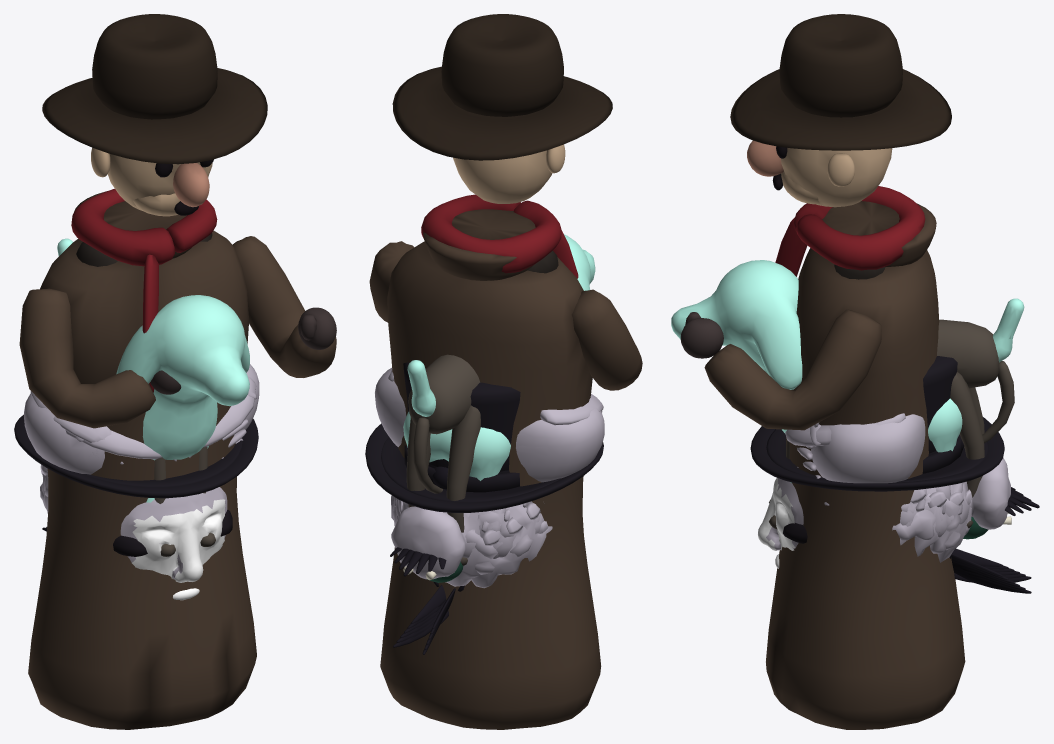
File: figures.glb
3 renders of one model, left to right at view 1: azimuth 30°, elevation 25°; view 2: azimuth 150°, elevation 25°; view 3: azimuth 270°, elevation 25°, orthographic. The views are drawn at different scales.
Visible parts, largest first — view 1: Fig_caretaker-torso, Fig_ghost-dog, Fig_bust-face, Fig_bust-hat-top, Fig_bust-body-gown, Fig_bust-body-coat, Fig_bust-head, Fig_bust-body-coat-bow, Fig_caretaker-legs, Fig_bust-hat-bowler, Fig_bust-body-toga, Fig_dog-body; view 2: Fig_caretaker-torso, Fig_dog-body, Fig_bust-hat-top, Fig_bust-hair-bun, Fig_ghost-dog, Fig_bust-body-coat, Fig_bust-body-coat-bow, Fig_bust-hair-wavy, Fig_bust-hat-bowler, Fig_bust-hair-curls, Fig_raven-wing-l, Fig_raven-body (+4 smaller); view 3: Fig_caretaker-torso, Fig_ghost-dog, Fig_dog-body, Fig_bust-hat-top, Fig_bust-body-coat, Fig_bust-body-coat-bow, Fig_bust-hair-bun, Fig_bust-hat-bowler, Fig_bust-hair-curls, Fig_bust-face, Fig_bust-hair-wavy, Fig_raven-wing-l (+6 smaller).
Part boxes in pixels (x1=…): Fig_caretaker-torso: x1=19, y1=14, x2=336, y2=729; Fig_ghost-dog: x1=116, y1=295, x2=249, y2=502; Fig_bust-face: x1=132, y1=499, x2=225, y2=600; Fig_bust-hat-top: x1=14, y1=414, x2=258, y2=498; Fig_bust-body-gown: x1=30, y1=365, x2=256, y2=473; Fig_bust-body-coat: x1=24, y1=396, x2=258, y2=474; Fig_bust-head: x1=120, y1=487, x2=227, y2=579; Fig_bust-body-coat-bow: x1=24, y1=364, x2=259, y2=447; Fig_caretaker-legs: x1=76, y1=233, x2=232, y2=556; Fig_bust-hat-bowler: x1=83, y1=438, x2=242, y2=487; Fig_bust-body-toga: x1=30, y1=391, x2=248, y2=464; Fig_dog-body: x1=154, y1=447, x2=215, y2=556; Fig_caretaker-torso: x1=369, y1=14, x2=642, y2=729; Fig_dog-body: x1=406, y1=354, x2=480, y2=565; Fig_bust-hat-top: x1=365, y1=362, x2=603, y2=512; Fig_bust-hair-bun: x1=391, y1=499, x2=544, y2=579; Fig_ghost-dog: x1=403, y1=234, x2=595, y2=480; Fig_bust-body-coat: x1=375, y1=374, x2=604, y2=482; Fig_bust-body-coat-bow: x1=375, y1=368, x2=604, y2=456; Fig_bust-hair-wavy: x1=394, y1=497, x2=552, y2=588; Fig_bust-hat-bowler: x1=381, y1=437, x2=560, y2=502; Fig_bust-hair-curls: x1=391, y1=495, x2=548, y2=574; Fig_raven-wing-l: x1=393, y1=581, x2=448, y2=647; Fig_raven-body: x1=390, y1=466, x2=448, y2=576; Fig_caretaker-torso: x1=680, y1=14, x2=965, y2=729; Fig_ghost-dog: x1=671, y1=260, x2=962, y2=482; Fig_dog-body: x1=769, y1=319, x2=1014, y2=529; Fig_bust-hat-top: x1=750, y1=356, x2=1004, y2=491; Fig_bust-body-coat: x1=811, y1=421, x2=925, y2=483; Fig_bust-body-coat-bow: x1=809, y1=414, x2=925, y2=461; Fig_bust-hair-bun: x1=900, y1=457, x2=1010, y2=537; Fig_bust-hat-bowler: x1=766, y1=429, x2=988, y2=482; Fig_bust-hair-curls: x1=892, y1=482, x2=971, y2=549; Fig_bust-face: x1=758, y1=478, x2=795, y2=568; Fig_bust-hair-wavy: x1=797, y1=467, x2=969, y2=562; Fig_raven-wing-l: x1=949, y1=554, x2=1031, y2=593.
Size of the model in its own units: 0.7587 by 1.81 by 0.9096.
